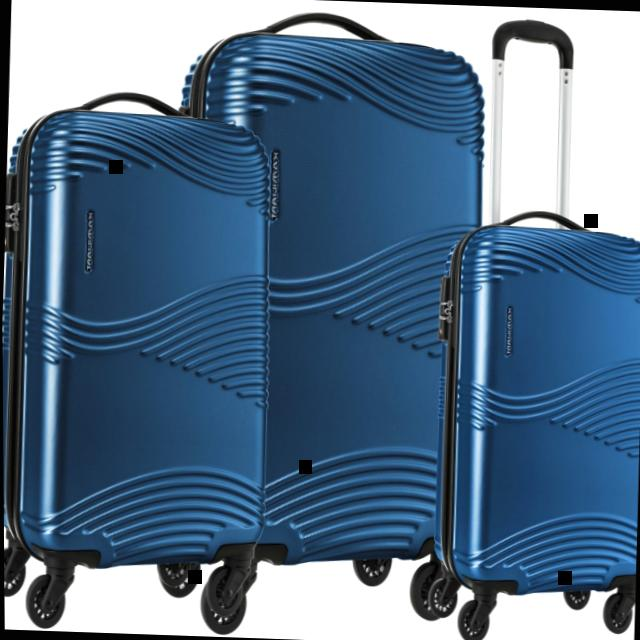luggage: (163, 3, 493, 576), (1, 86, 282, 577), (425, 204, 640, 604)
